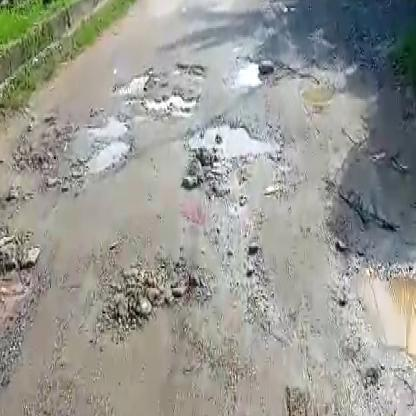pothole: (348, 254, 416, 378), (176, 116, 292, 175), (115, 68, 204, 115), (81, 139, 137, 175), (342, 57, 381, 96), (83, 113, 129, 142), (237, 58, 269, 90), (302, 81, 338, 107), (176, 63, 211, 80)
